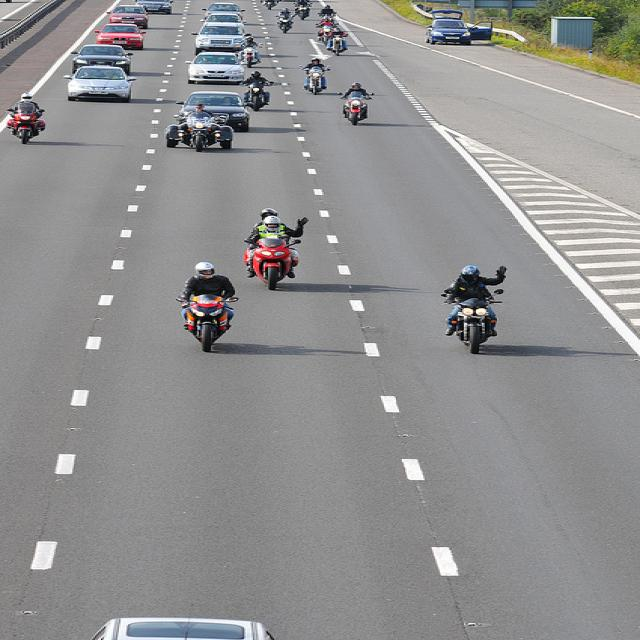motor: (243, 234, 302, 292), (455, 288, 505, 354), (165, 110, 236, 154), (183, 294, 227, 355), (7, 100, 45, 143), (235, 79, 274, 113), (337, 92, 375, 126), (298, 65, 332, 95), (236, 44, 265, 68), (329, 35, 350, 57), (314, 21, 335, 43), (275, 14, 295, 33), (318, 12, 337, 21)
